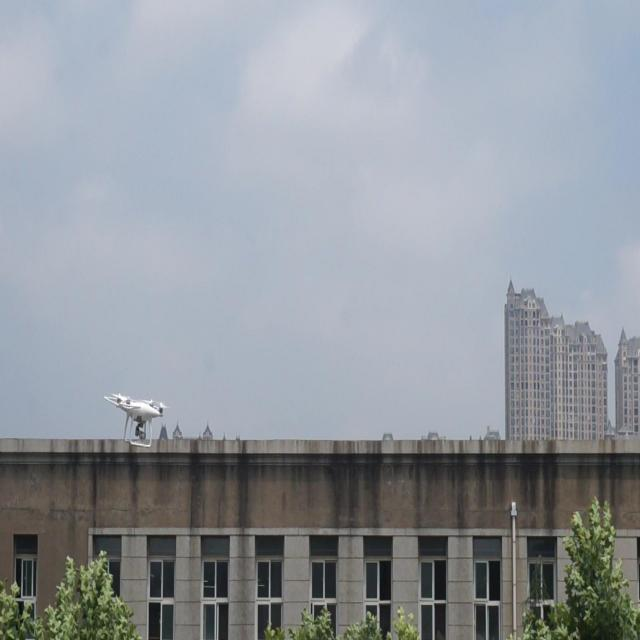UAV: (104, 393, 170, 447)
